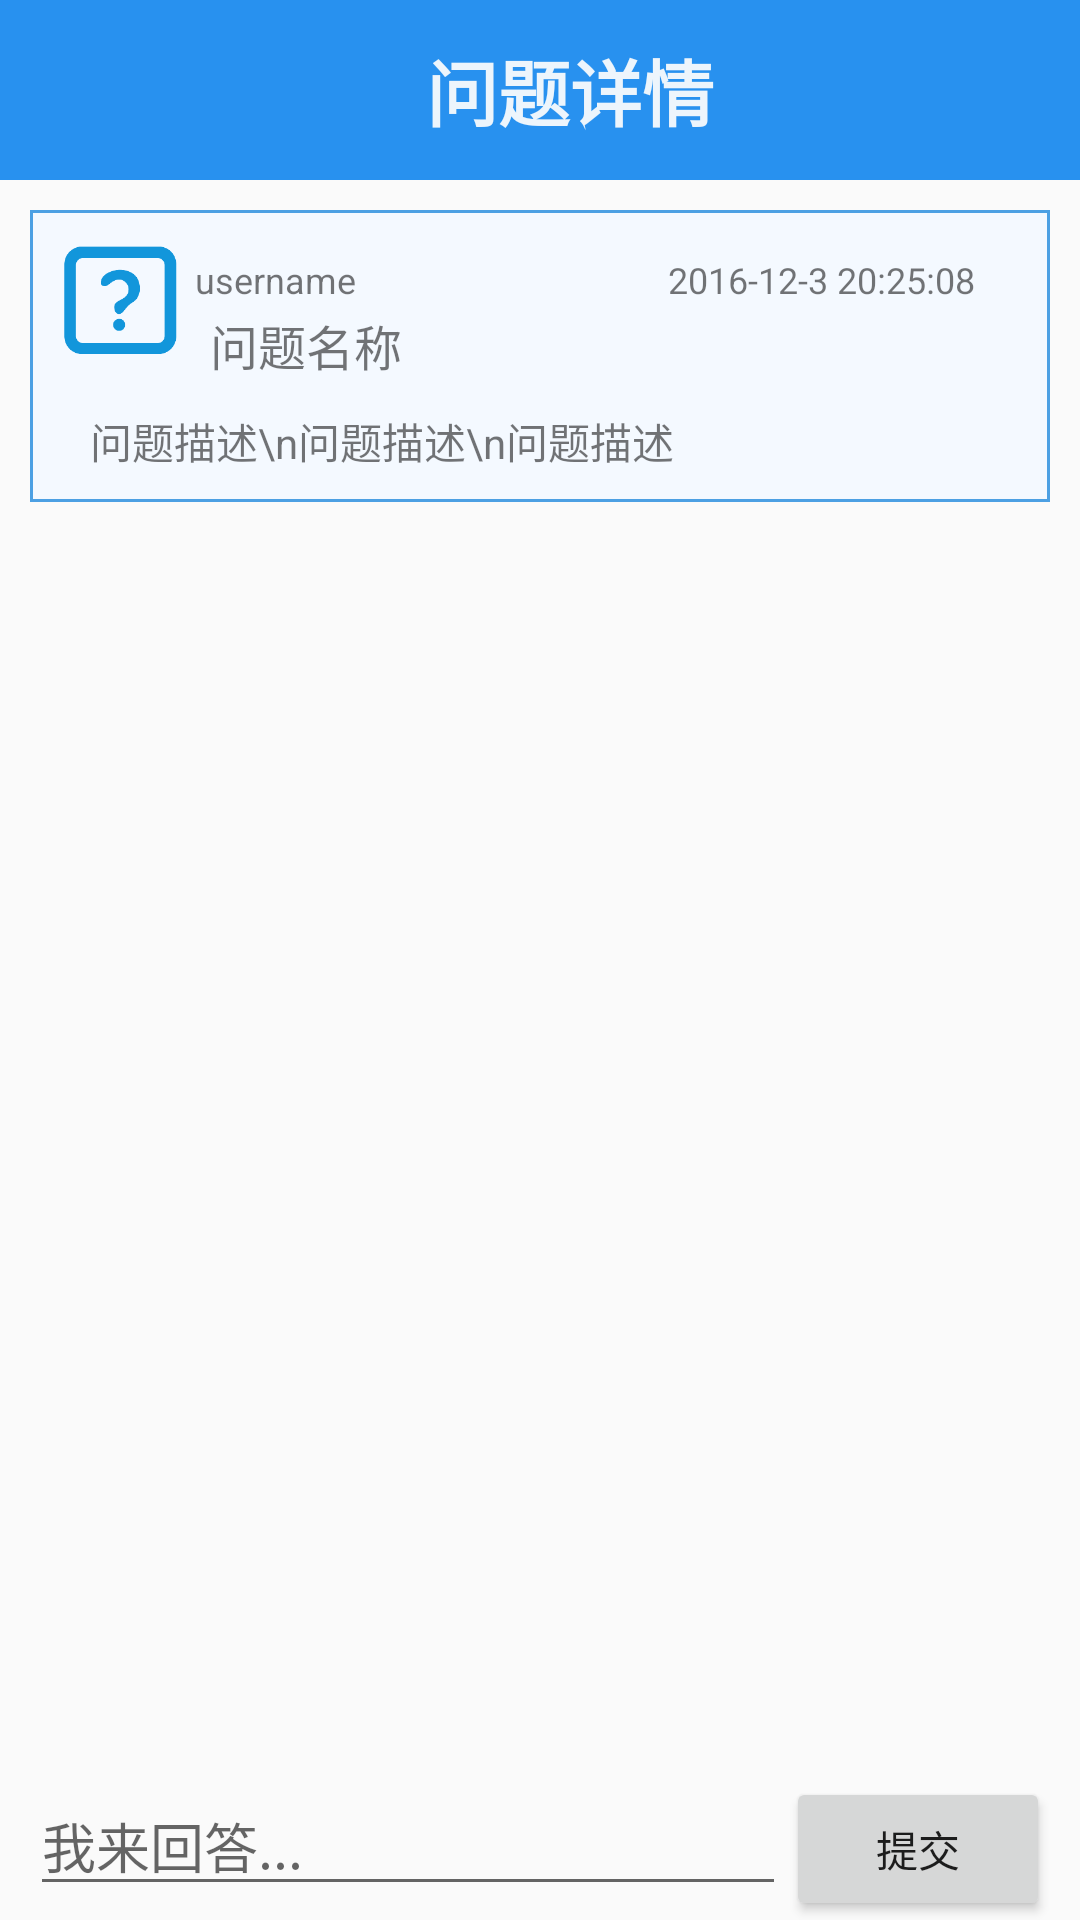

Screen size 1080px x 1920px. Icon name, then its center in pixels as (x=x, y=y):
question: (x=120, y=300)
